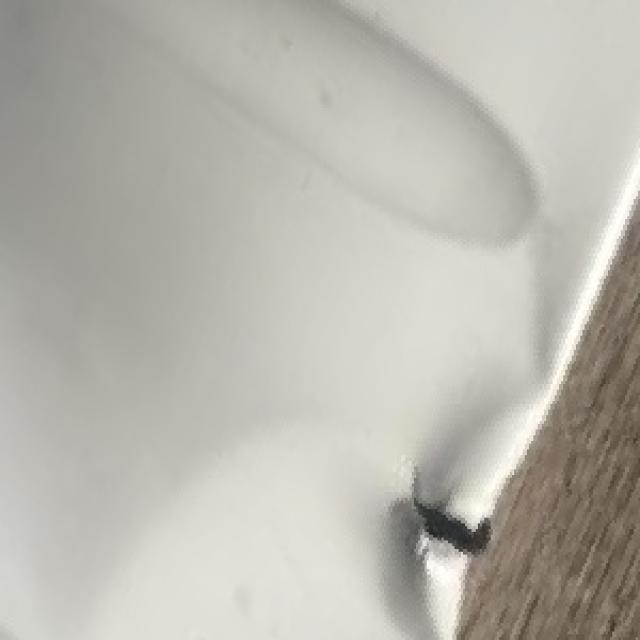crack: (384, 461, 497, 564)
